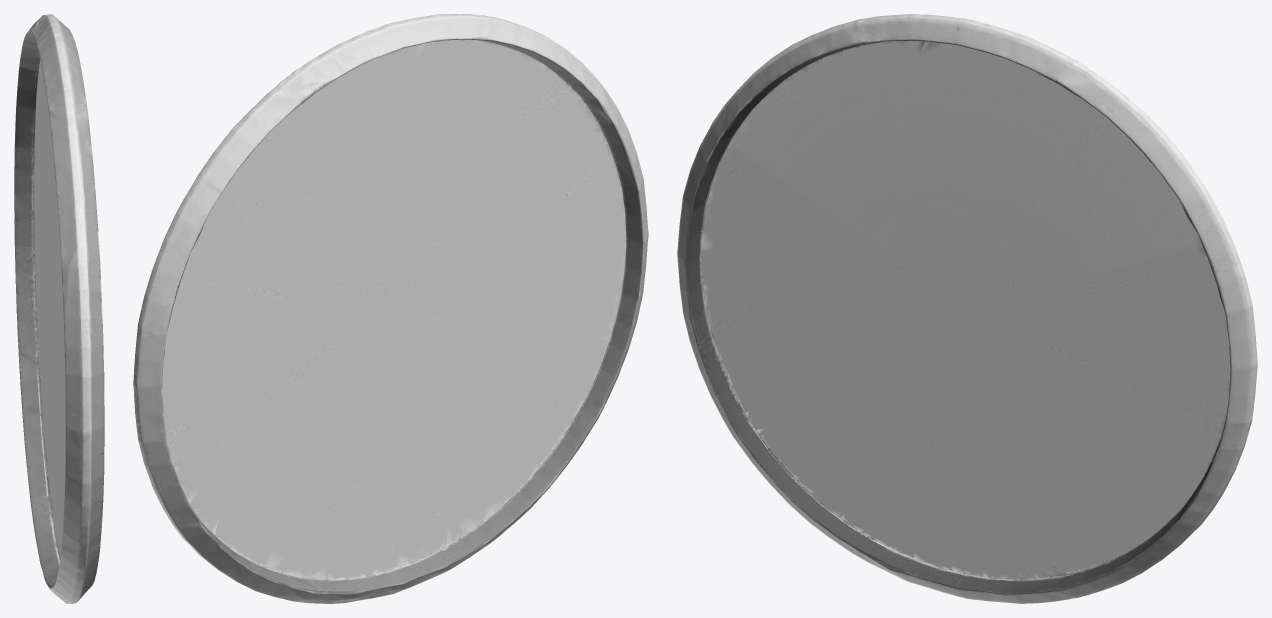
File: room_round_mirror.glb
3 views of the same model, side by side, from view 1: azimuth 30°, elevation 25°; view 2: azimuth 150°, elevation 25°; view 3: azimuth 270°, elevation 25° (orthographic). The views are drawn at different scales.
Visible parts, largest first — view 1: mesh_node.012; view 2: mesh_node.012; view 3: mesh_node.012.
Boxes of the visible parts, x1=… form: mesh_node.012: x1=14, y1=14, x2=104, y2=603; mesh_node.012: x1=133, y1=14, x2=648, y2=603; mesh_node.012: x1=677, y1=14, x2=1257, y2=603.
Bounding box in the file's own units: 0.2507 × 0.5517 × 0.5036.
1 material, 1 textured.
